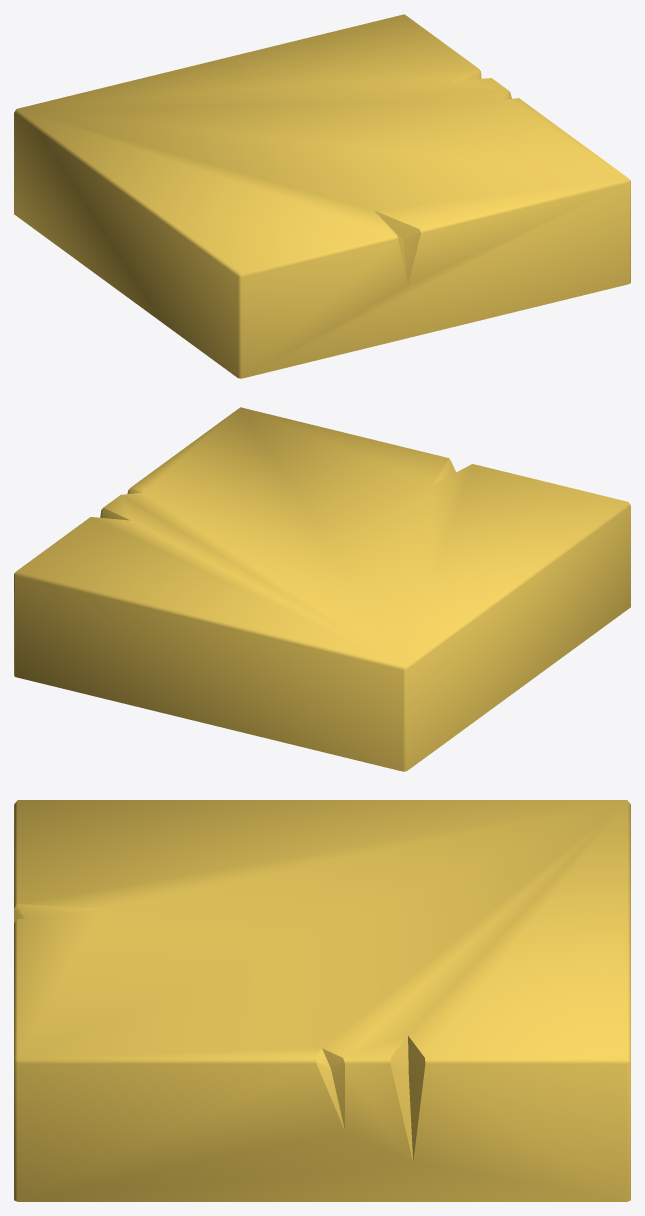
Rendered from Hay.fbx.
3 views of the same model, one above another, from view 1: azimuth 30°, elevation 25°; view 2: azimuth 150°, elevation 25°; view 3: azimuth 270°, elevation 25° (orthographic). The views are drawn at different scales.
Visible parts, largest first — view 1: Hay; view 2: Hay; view 3: Hay.
Boxes of the visible parts, left/top/right/bottom form: Hay: left=14, top=14, right=630, bottom=378; Hay: left=14, top=407, right=630, bottom=771; Hay: left=14, top=800, right=630, bottom=1201.
Bounding box in the file's own units: 429 × 109 × 429.
